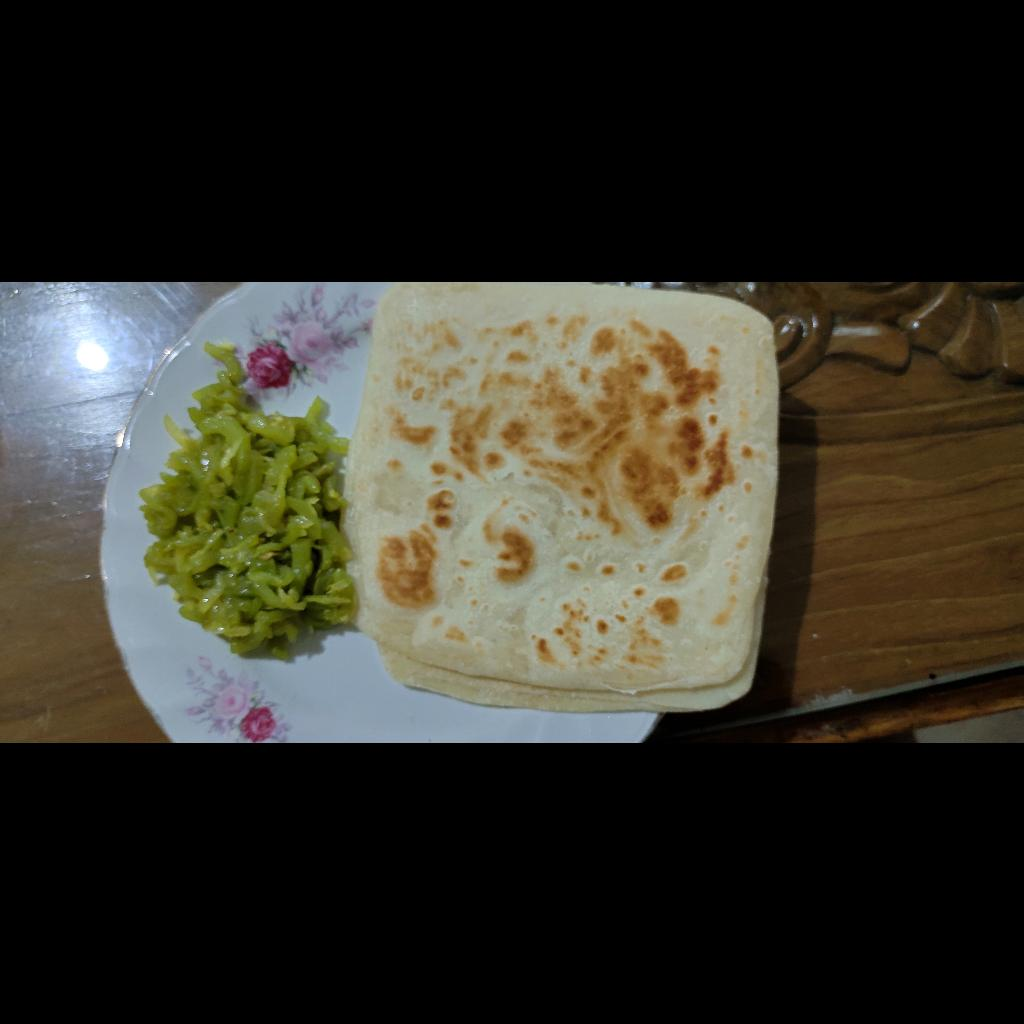chichinga-vaji: (85, 414, 404, 630)
ruti: (28, 625, 461, 1024)
